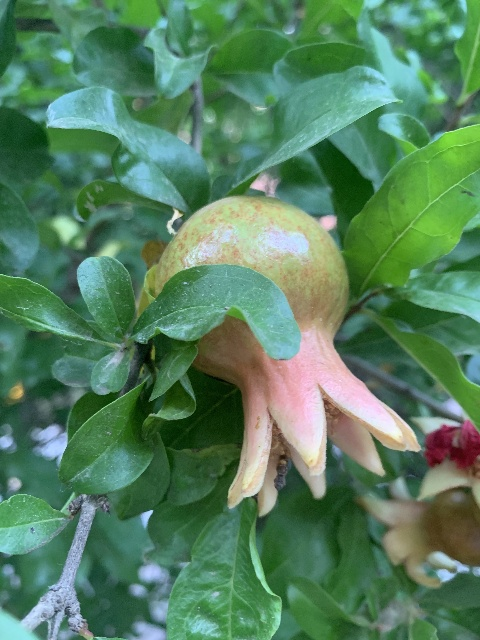early-fruit: (155, 198, 420, 520), (355, 483, 480, 586)
